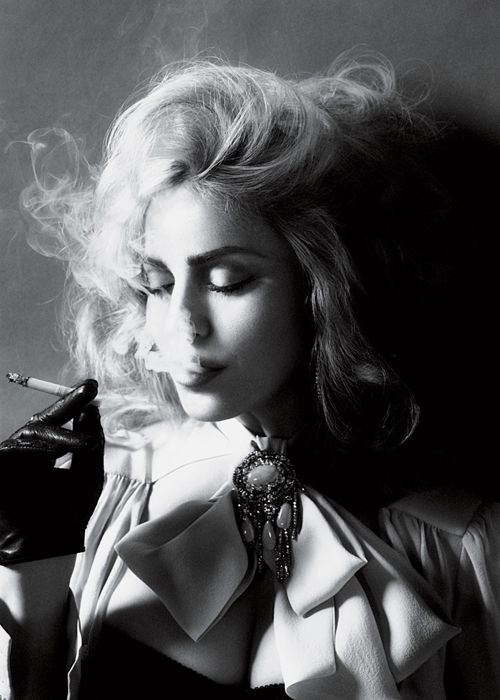cigarette: (3, 367, 79, 395)
